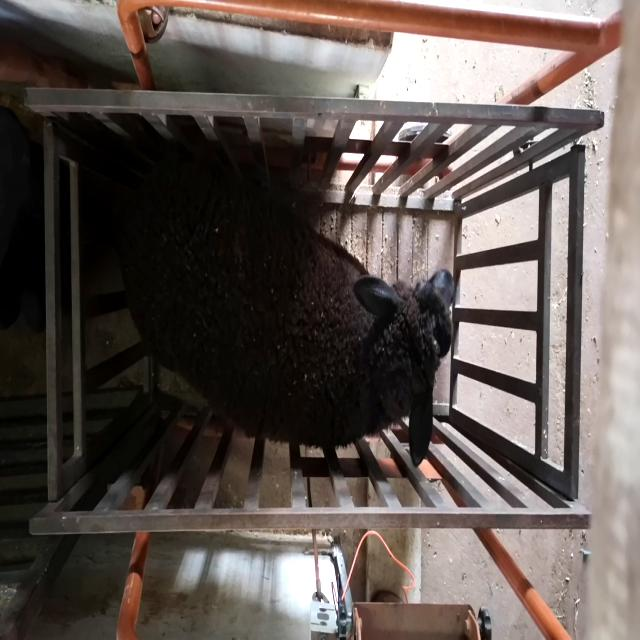sheep: (114, 154, 457, 468)
